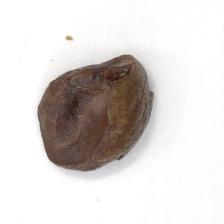NG: (60, 72, 110, 163), (113, 51, 157, 98)
